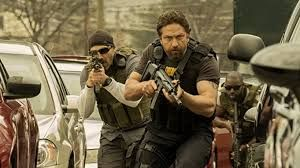gun: (140, 57, 184, 114), (224, 99, 246, 158), (86, 52, 103, 92)
uniform: (144, 37, 215, 157), (69, 55, 148, 147), (219, 88, 266, 159)
